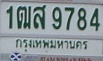num1: (5, 5, 14, 29)
txt13: (16, 5, 32, 30)
txt35: (32, 4, 47, 30)
